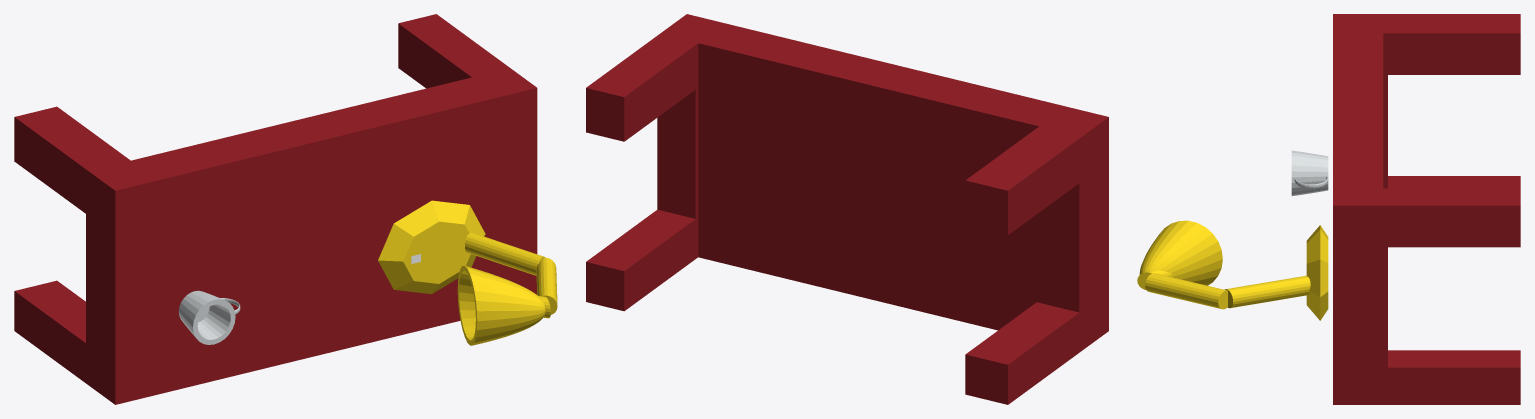
File: tinker.obj
3 renders of one model, left to right at view 1: azimuth 30°, elevation 25°; view 2: azimuth 150°, elevation 25°; view 3: azimuth 270°, elevation 25°, orthographic. The views are drawn at different scales.
Parts seen in each view (by area): view 1: group_0_9771553, group_0_16768282, group_0_14541540; view 2: group_0_9771553; view 3: group_0_9771553, group_0_16768282, group_0_14541540.
Part boxes in pixels (x1,y1,x2,y2): group_0_9771553: (14, 14, 537, 404); group_0_16768282: (378, 200, 557, 345); group_0_14541540: (178, 290, 240, 344); group_0_9771553: (586, 14, 1108, 404); group_0_9771553: (1333, 14, 1520, 404); group_0_16768282: (1137, 220, 1328, 320); group_0_14541540: (1291, 150, 1328, 195).
Size of the model in its own units: 99 by 48 by 83.69.
